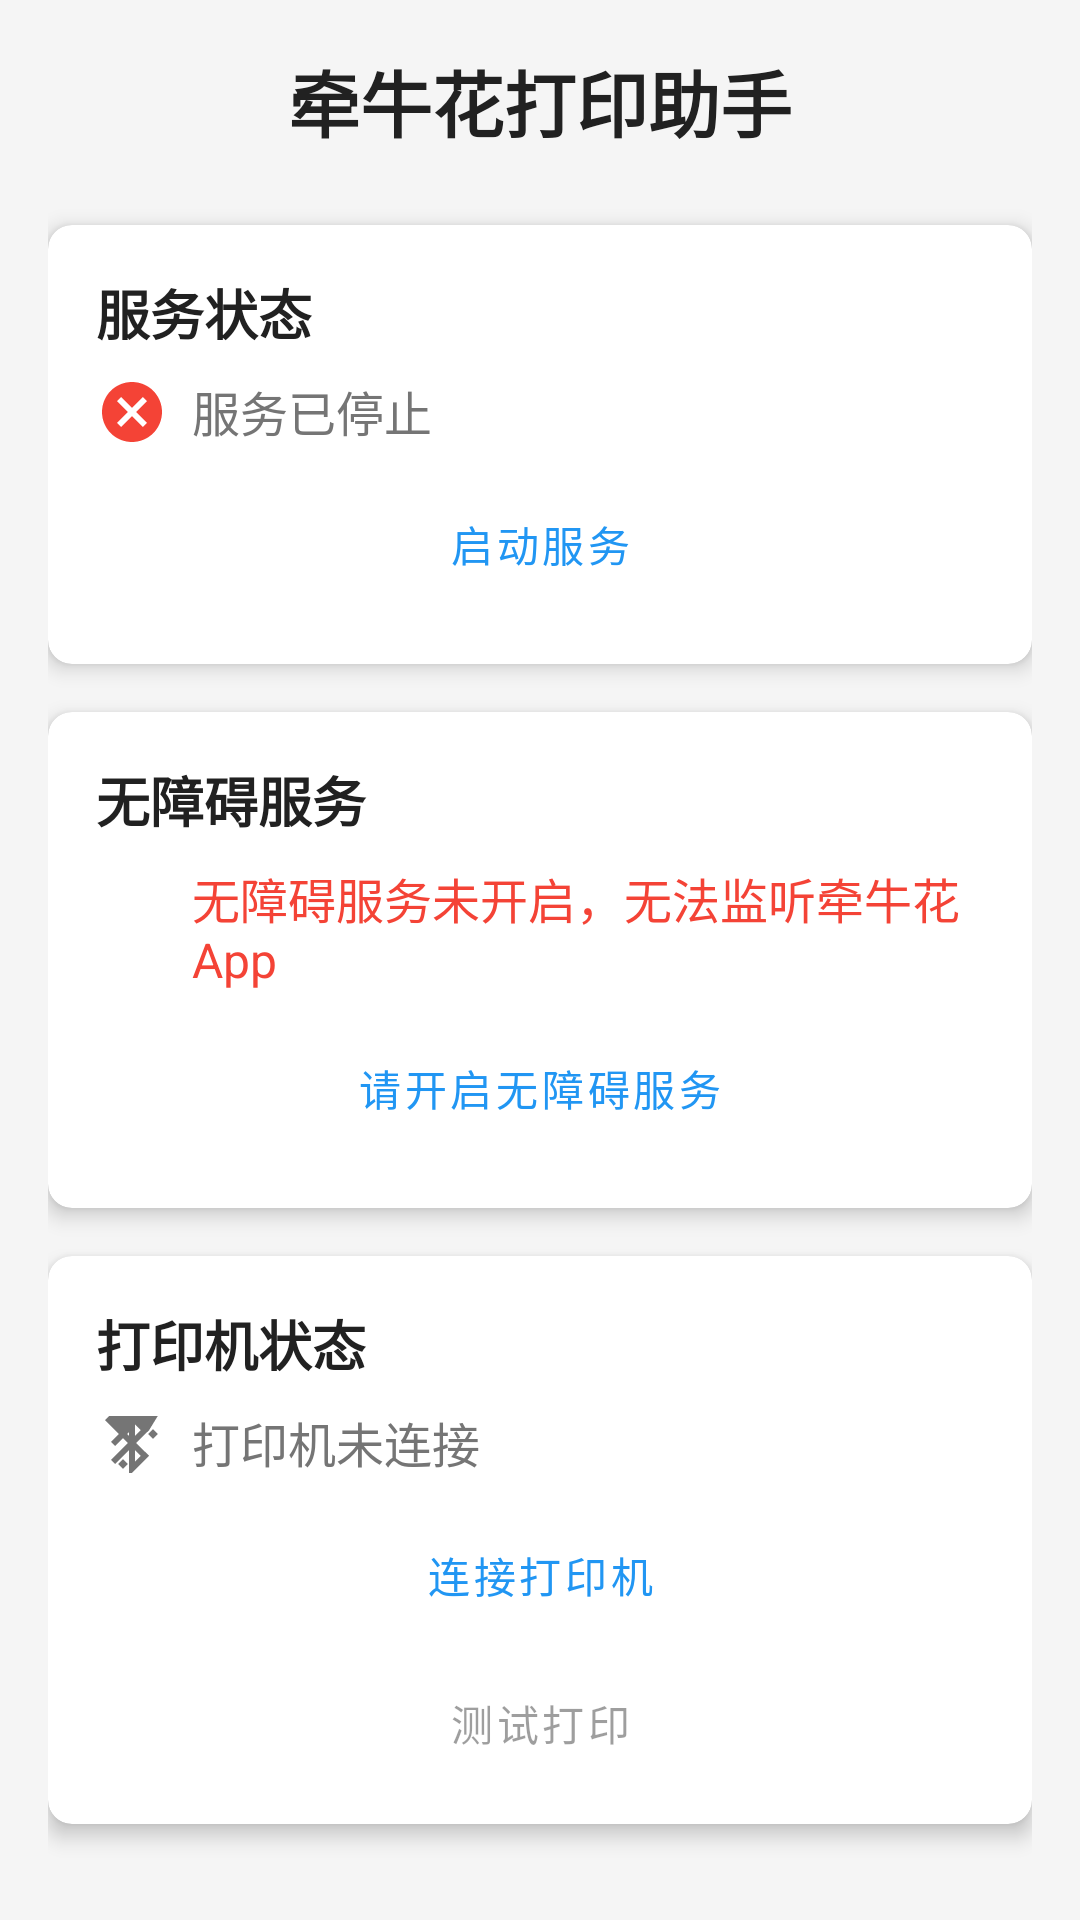

Named icons in this screenshot (1080×1920) and their centers, point (x, y):
service off: point (132, 412)
